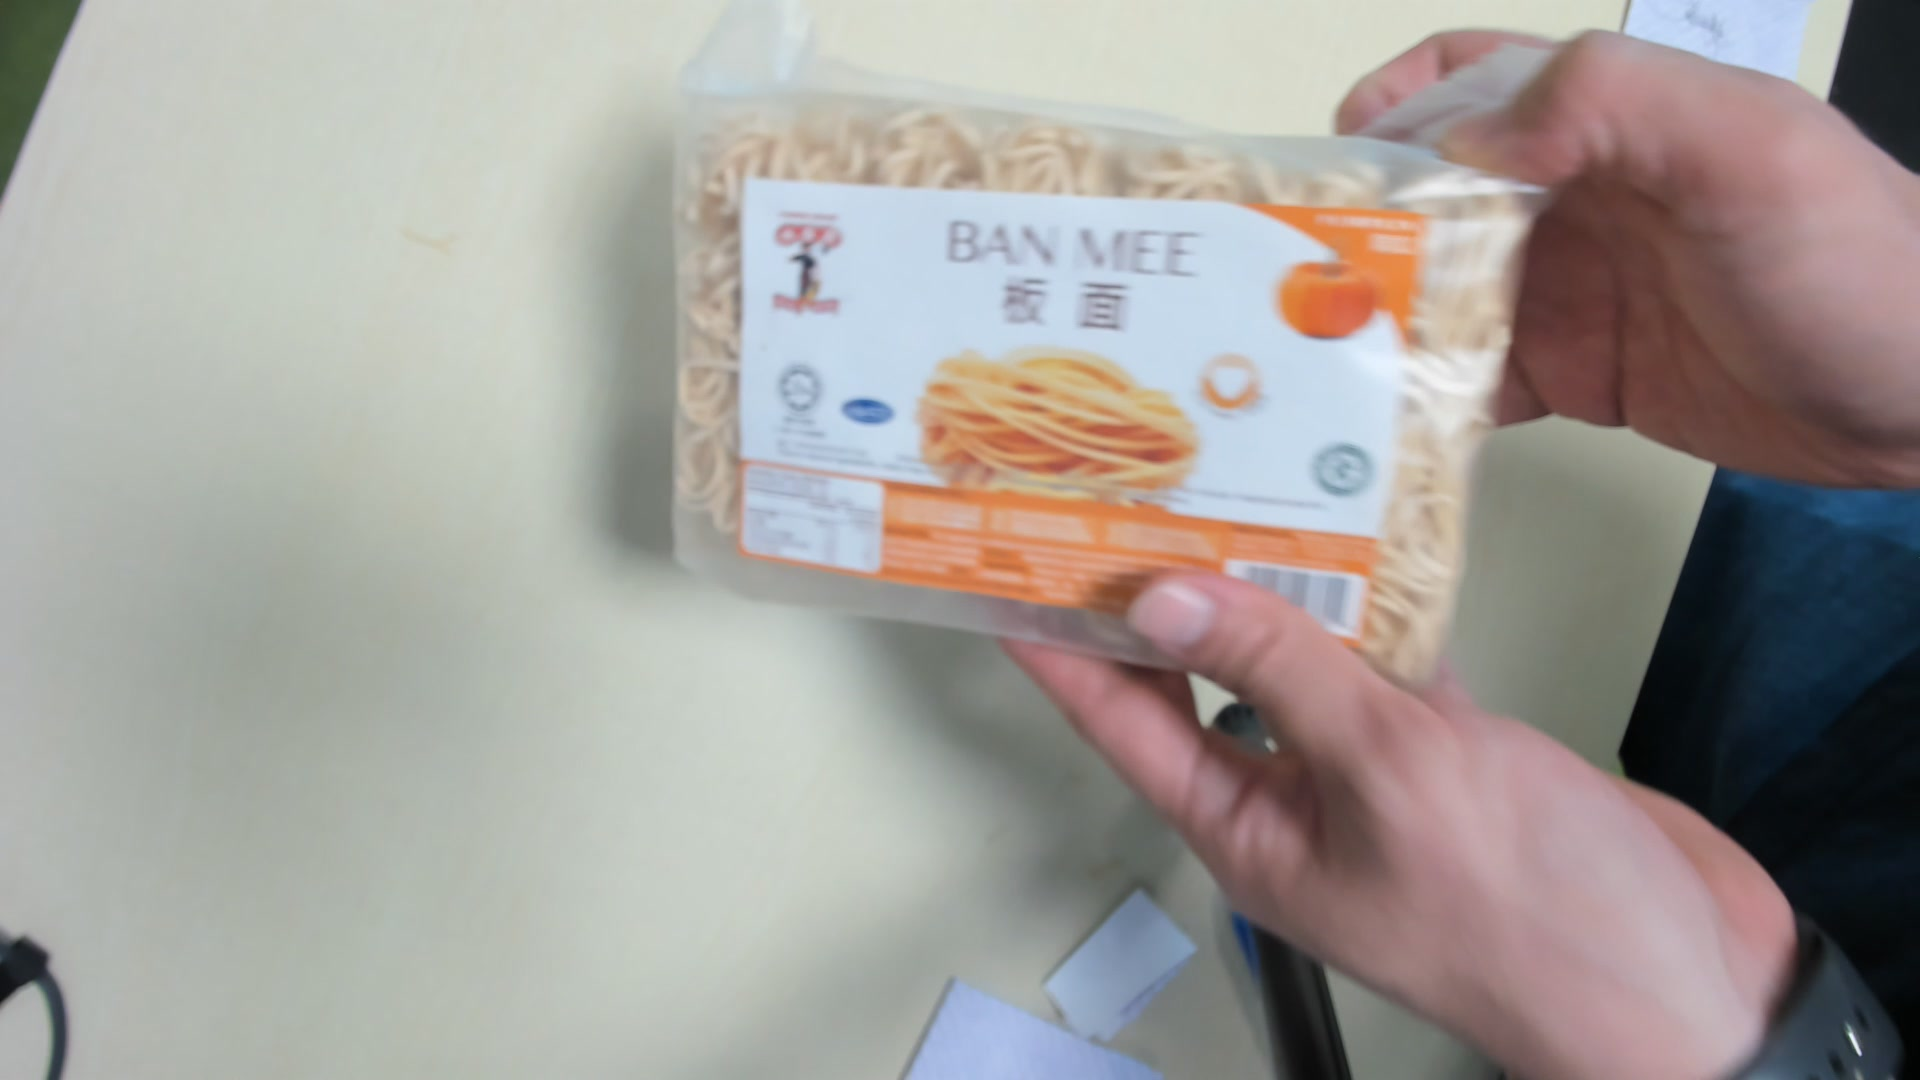OtherNoodles_500-599g_Halal_NonHealthy: (680, 78, 1519, 699)
